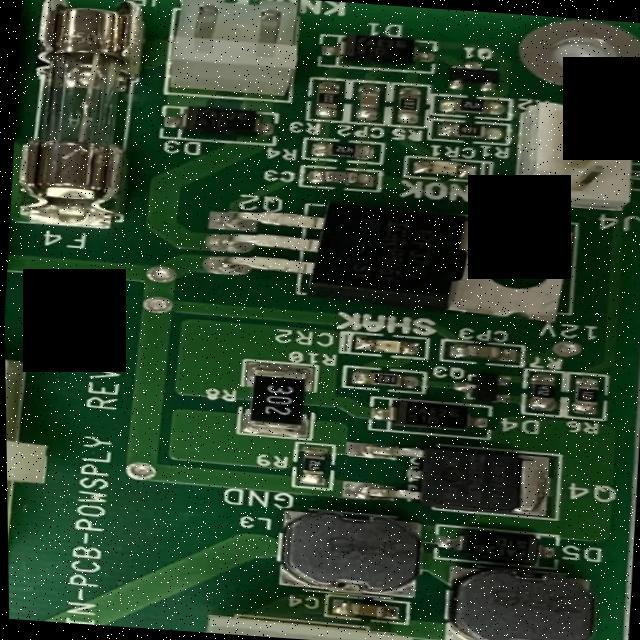4439: (442, 58, 501, 90), (451, 371, 508, 404)
IC: (214, 197, 567, 315), (354, 438, 549, 512)
LED: (413, 154, 476, 177), (347, 334, 416, 355)
capacitor 1V5: (328, 598, 394, 624), (450, 339, 505, 362), (310, 168, 372, 186), (353, 86, 386, 115)
connector -5v-: (502, 86, 640, 217), (166, 0, 302, 101)
diode -D1-: (428, 522, 558, 566), (323, 28, 438, 70), (162, 99, 272, 142), (372, 398, 473, 430)
fuse F1: (8, 0, 149, 212)
inductor F1: (270, 504, 423, 600), (444, 564, 593, 640)
resistor IR1: (239, 358, 311, 430), (440, 93, 505, 115), (430, 118, 488, 138), (345, 369, 407, 387), (310, 140, 371, 158), (312, 81, 343, 115), (392, 86, 423, 120), (526, 374, 557, 406), (566, 378, 599, 408), (297, 448, 326, 478)
